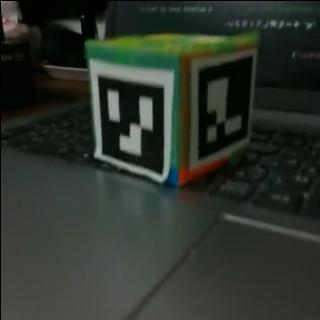armor: (91, 58, 174, 180), (191, 48, 253, 168)
robot: (82, 30, 258, 186)
